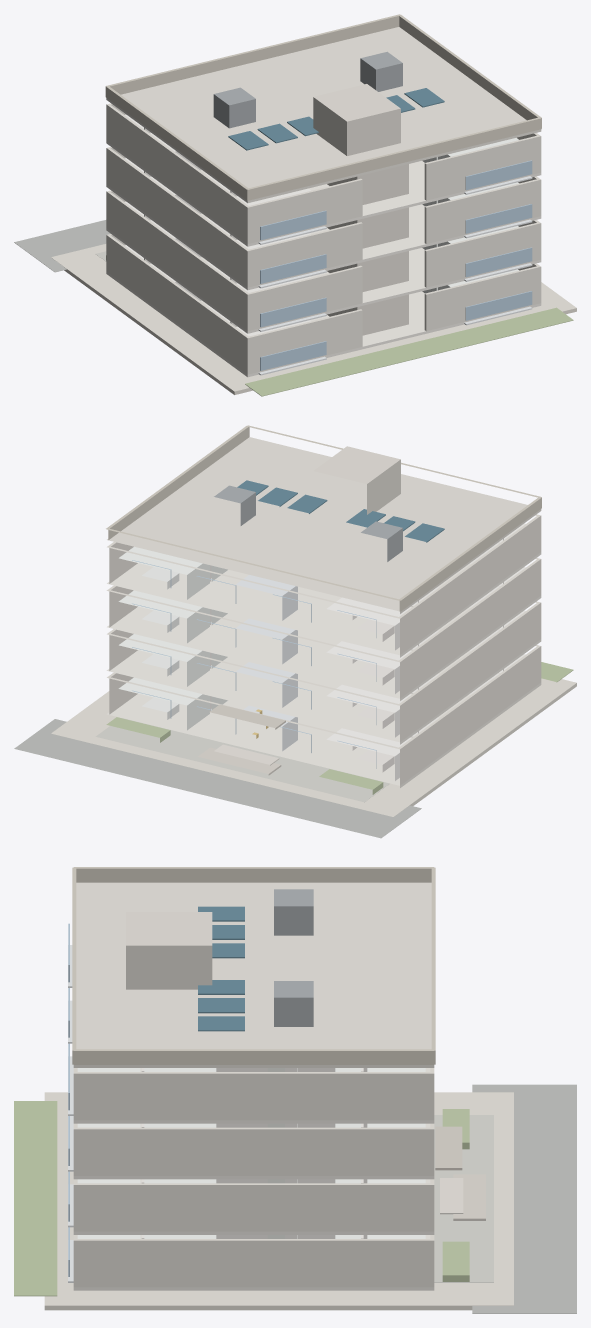
Rendered from twin.glb.
3 renders of one model, top to bottom at view 1: azimuth 30°, elevation 25°; view 2: azimuth 150°, elevation 25°; view 3: azimuth 270°, elevation 25°, orthographic. The views are drawn at different scales.
Parts seen in each view (by area): view 1: TwinDemoBuilding; view 2: TwinDemoBuilding; view 3: TwinDemoBuilding.
Part boxes in pixels (x1,y1,x2,y2): TwinDemoBuilding: (14, 14, 576, 396); TwinDemoBuilding: (14, 425, 576, 838); TwinDemoBuilding: (14, 867, 576, 1313).
Bounding box in the file's own units: 30 × 16.8 × 31.2.
